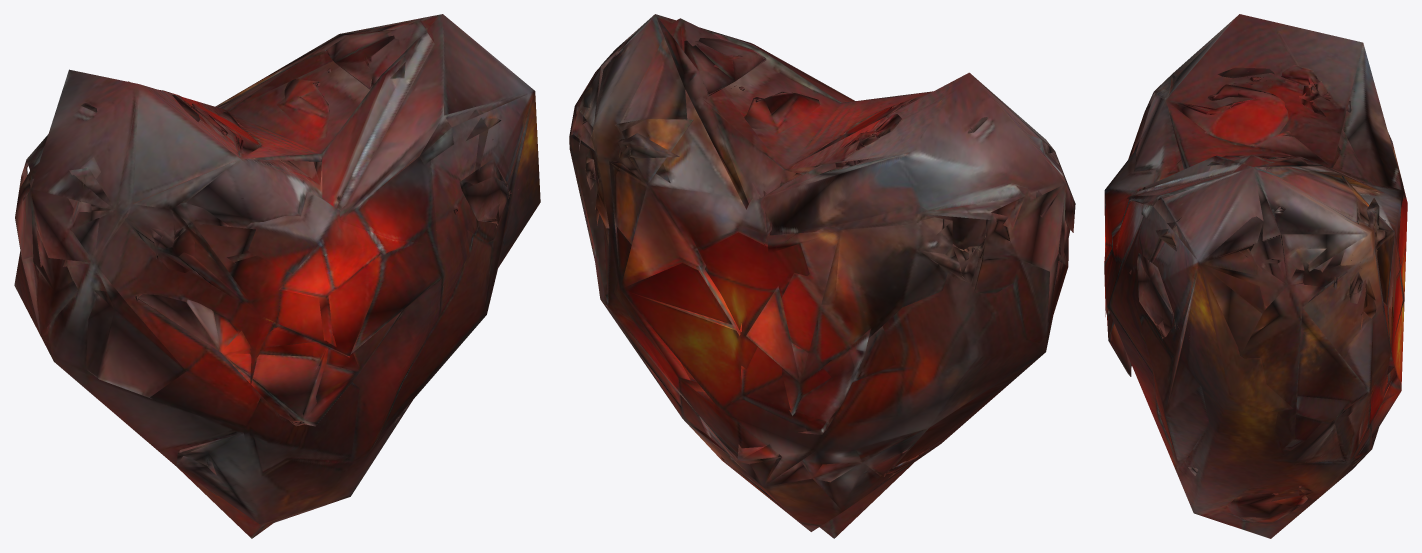
The model's file is testHeartRed.glb.
The picture shows the model from 3 angles, left to right: view 1: azimuth 30°, elevation 25°; view 2: azimuth 150°, elevation 25°; view 3: azimuth 270°, elevation 25°; orthographic projection. The views are drawn at different scales.
Parts seen in each view (by area): view 1: Mesh_0; view 2: Mesh_0; view 3: Mesh_0.
Boxes of the visible parts, x1,y1,x2,y2 form: Mesh_0: [14, 14, 540, 538]; Mesh_0: [569, 14, 1075, 538]; Mesh_0: [1104, 14, 1407, 538].
Bounding box in the file's own units: 1.06 × 1 × 0.5926.
Materials: 1 (1 with a texture image).
